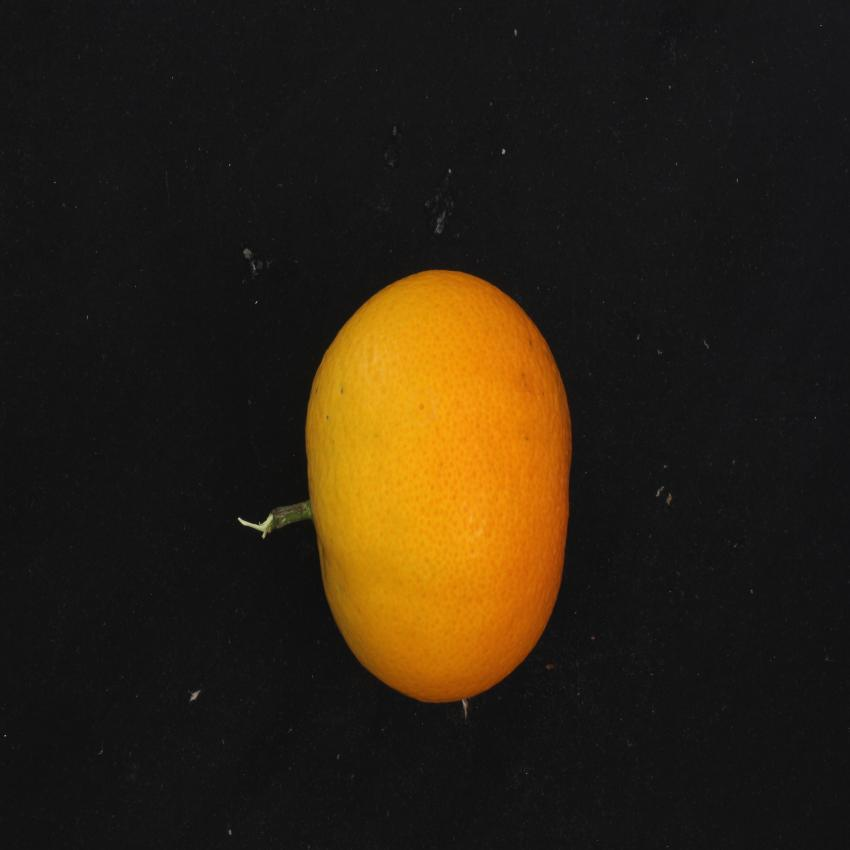Buen estado: (298, 254, 586, 724)
